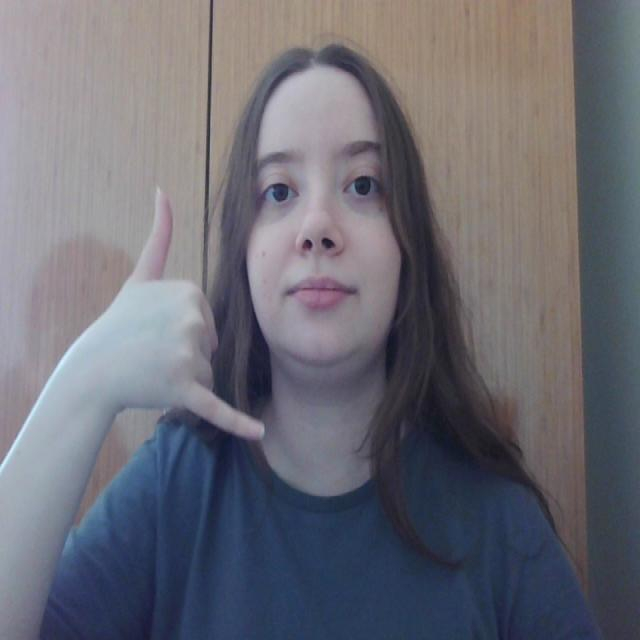Telefon: (130, 172, 270, 460)
